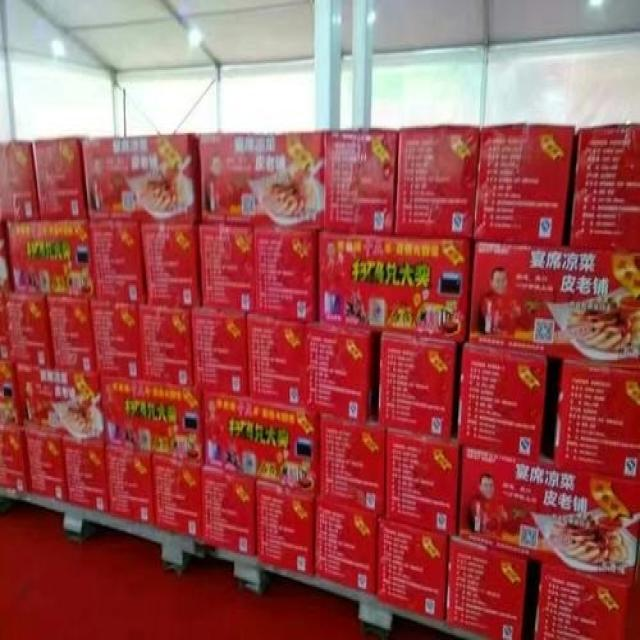box: (458, 445, 640, 589), (467, 241, 640, 369), (316, 232, 471, 341), (472, 123, 576, 247), (202, 391, 321, 497), (200, 131, 324, 232), (540, 358, 640, 480), (200, 224, 317, 323), (81, 133, 202, 225), (457, 341, 548, 459), (99, 375, 204, 468), (567, 123, 640, 254), (396, 126, 479, 241), (445, 536, 532, 640), (379, 333, 461, 442), (529, 560, 635, 640), (385, 430, 460, 536), (324, 130, 398, 236), (376, 517, 449, 621), (6, 218, 96, 300), (14, 364, 105, 445), (317, 411, 384, 515), (308, 326, 379, 423), (314, 498, 379, 599), (257, 478, 316, 579), (246, 314, 308, 408), (191, 307, 248, 399), (202, 464, 256, 560), (141, 224, 201, 307), (88, 220, 147, 304), (32, 135, 90, 220), (0, 288, 55, 369), (142, 304, 193, 389), (105, 444, 156, 529), (44, 294, 97, 374), (91, 300, 143, 381), (152, 459, 202, 541), (23, 425, 69, 505), (63, 435, 108, 515), (0, 142, 40, 220), (0, 423, 29, 493), (0, 362, 22, 425), (0, 218, 9, 288)
